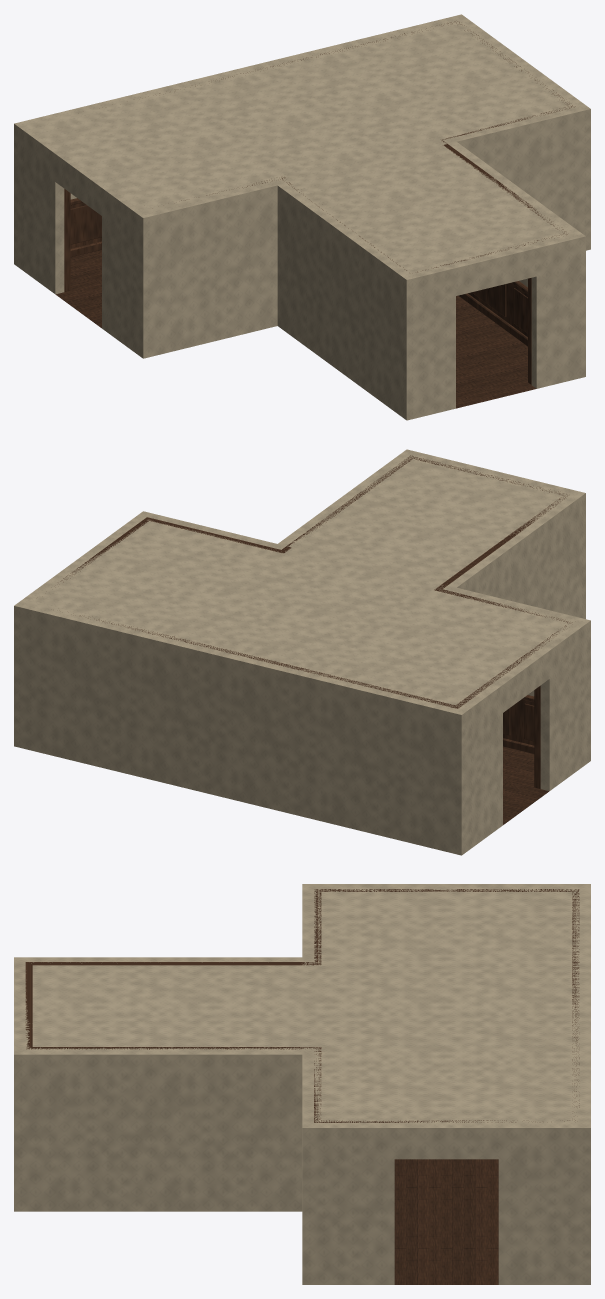
The model's file is TJunction.fbx.
3 views of the same model, one above another, from view 1: azimuth 30°, elevation 25°; view 2: azimuth 150°, elevation 25°; view 3: azimuth 270°, elevation 25° (orthographic). The views are drawn at different scales.
Parts seen in each view (by area): view 1: SM_TJunction.001; view 2: SM_TJunction.001; view 3: SM_TJunction.001.
Part boxes in pixels (x1,y1,x2,y2): SM_TJunction.001: [14, 14, 590, 420]; SM_TJunction.001: [14, 449, 590, 855]; SM_TJunction.001: [14, 884, 590, 1284].
Size of the model in its own units: 1000 by 300 by 1000.
3 materials, 3 textured.
